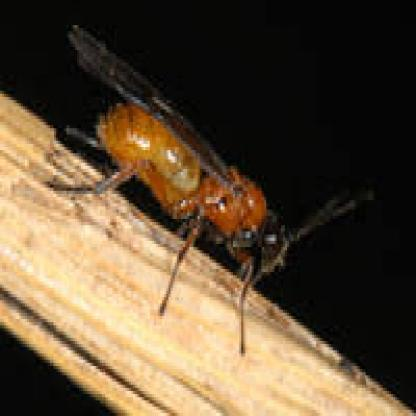sawfly: (37, 13, 372, 366)
